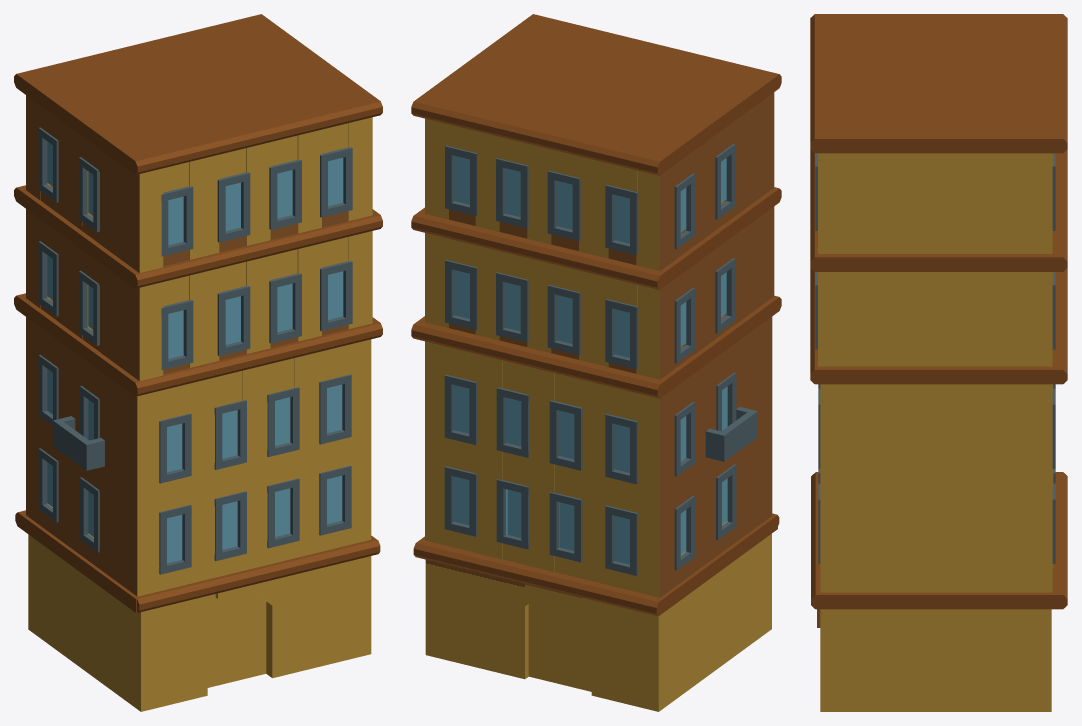
Rendered from build2.gltf.
The picture shows the model from 3 angles, left to right: view 1: azimuth 30°, elevation 25°; view 2: azimuth 150°, elevation 25°; view 3: azimuth 270°, elevation 25°; orthographic projection. The views are drawn at different scales.
Visible parts, largest first — view 1: cube (×64); view 2: cube (×63); view 3: cube (×16).
Part boxes in pixels (<box>): cube (×64): <box>16,14,382,711</box>; cube (×63): <box>411,14,779,711</box>; cube (×16): <box>810,14,1067,711</box>.
Bounding box in the file's own units: 15.05 × 30.73 × 12.43.
Materials: 1 (1 with a texture image).
